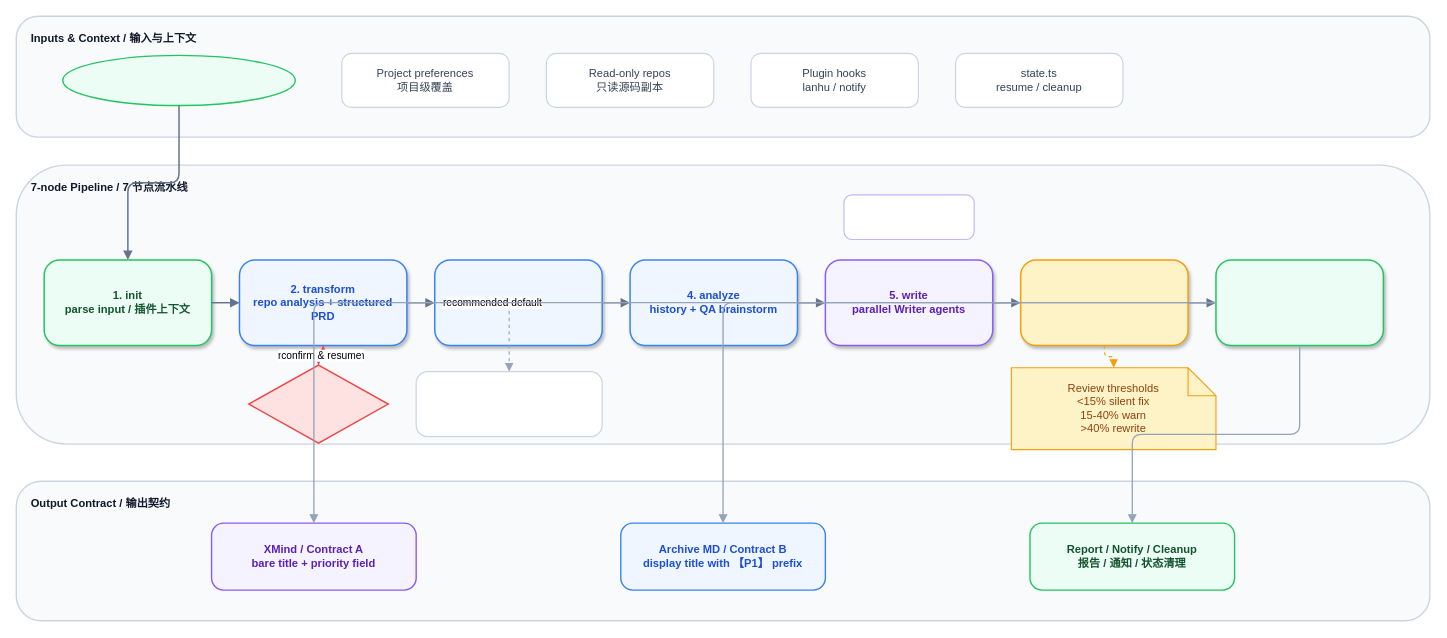
Some shapes in this 1447 by 638 pixel diagram are drawn without their labels. Here are the shapes that lost their labels. From the top down, the centre of each, then its label:
At point (179, 80): "PRD / Lanhu URL / XMind / CSV".
At point (908, 217): "≤ 3 Writers parallel sub-agents".
At point (519, 303): "3. enhance images + frontmatter + health".
At point (1105, 303): "6. review quality gate / 质量门控".
At point (1300, 303): "7. output XMind(A) + Archive(B)".
At point (318, 403): "clarify_envelope blocking_unknown / invalid_input".
At point (508, 404): "defaultable_unknown auto continue with evidence".
